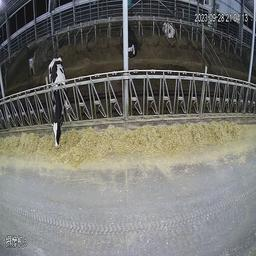cow: (43, 57, 71, 145), (128, 21, 139, 58), (159, 21, 180, 40)
